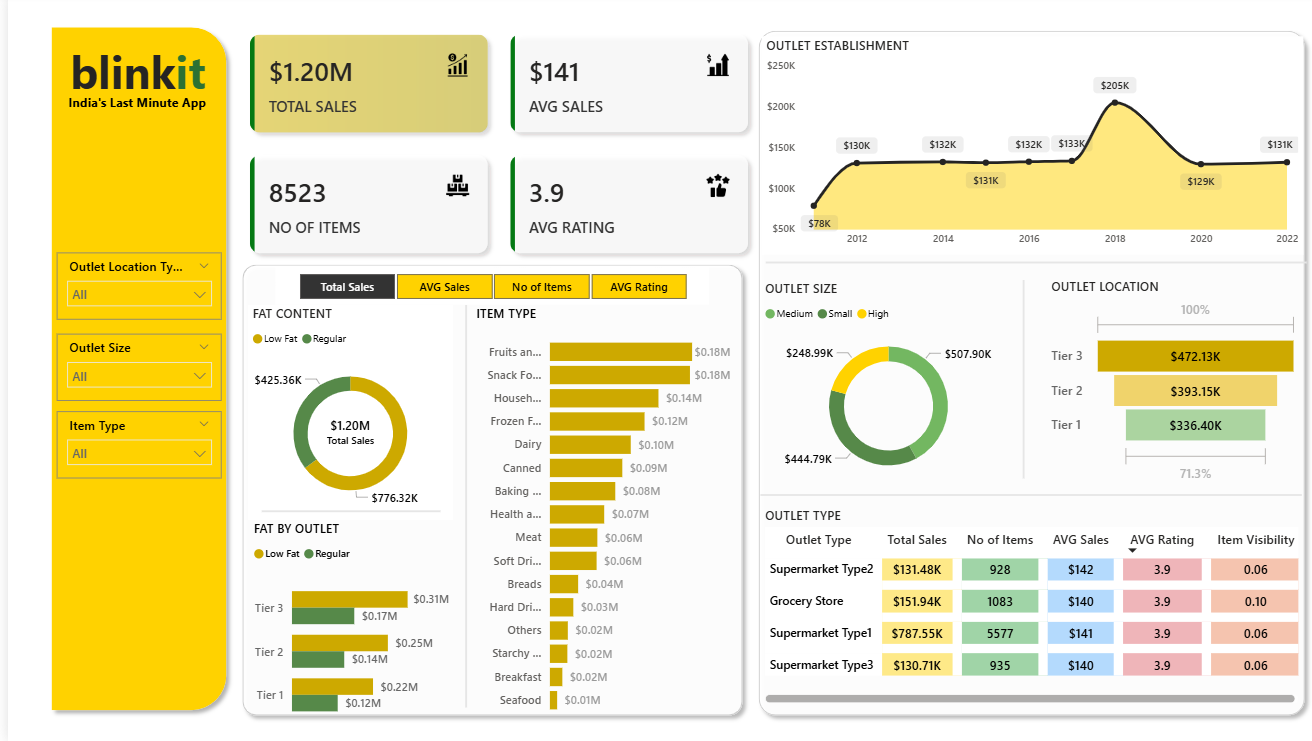

The page's visual inventory and layout, read from the dashboard file:
{"tool":"powerbi","page":{"name":"Page 1","canvas":[1400,800],"ordinal":0},"visuals":[{"type":"shape","box":[37.5,25.5,205.6,750.4],"z":0},{"type":"textbox","box":[290.9,689,206.4,87.1],"z":1000},{"type":"textbox","box":[52.3,100.5,172.9,34.9],"z":2000},{"type":"textbox","box":[52.3,44.2,174.3,73.7],"z":3000},{"type":"cardVisual","fields":{"Data":["BlinkIT Grocery Data.Total Sales","BlinkIT Grocery Data.AVG Sales","BlinkIT Grocery Data.No of Items","BlinkIT Grocery Data.AVG Rating"]},"box":[242.6,25.5,569.7,269.4],"z":4000},{"type":"shape","box":[242.6,280.2,554,501.3],"z":5000},{"type":"donutChart","title":"FAT CONTENT","fields":{"Y":["BlinkIT Grocery Data.Total Sales"],"Category":["BlinkIT Grocery Data.Item Fat Content"]},"box":[257.4,332.4,219.8,230.6],"z":6000},{"type":"slicer","fields":{"Values":["Matrix.Matrix"]},"box":[286.9,292.2,465.1,40.2],"z":7000},{"type":"cardVisual","fields":{"Data":["BlinkIT Grocery Data.Total Sales"]},"box":[313.7,435.7,107.2,56.3],"z":8000},{"type":"clusteredBarChart","title":"FAT BY OUTLET","fields":{"Y":["BlinkIT Grocery Data.Total Sales"],"Category":["BlinkIT Grocery Data.Outlet Location Type"],"Series":["BlinkIT Grocery Data.Item Fat Content"]},"box":[258.7,563,219.8,230.6],"z":9000},{"type":"shape","box":[272.1,544.2,191.7,18.8],"z":10000},{"type":"shape","box":[477.2,332.4,28.2,431.6],"z":11000},{"type":"barChart","title":"ITEM TYPE","fields":{"Y":["BlinkIT Grocery Data.Total Sales"],"Category":["BlinkIT Grocery Data.Item Type"]},"box":[497.3,332.4,282.8,449.1],"z":12000},{"type":"shape","box":[796.3,29.5,603.2,752],"z":13000},{"type":"lineChart","title":"OUTLET ESTABLISHMENT","fields":{"Y":["BlinkIT Grocery Data.Total Sales"],"Category":["BlinkIT Grocery Data.Outlet Establishment Year"]},"box":[808.3,44.2,580.4,234.6],"z":14000},{"type":"shape","box":[807,528.2,580.4,16.1],"z":15000},{"type":"donutChart","title":"OUTLET SIZE","fields":{"Y":["BlinkIT Grocery Data.Total Sales"],"Category":["BlinkIT Grocery Data.Outlet Size"]},"box":[807,305.6,275,225.2],"z":16000},{"type":"shape","box":[1075.1,305.6,28.2,213.1],"z":17000},{"type":"funnel","title":"OUTLET LOCATION","fields":{"Y":["BlinkIT Grocery Data.Total Sales"],"Category":["BlinkIT Grocery Data.Outlet Location Type"]},"box":[1113.9,303,274.8,225.2],"z":18000},{"type":"shape","box":[812.3,278.8,580.4,16.1],"z":19000},{"type":"pivotTable","title":"OUTLET TYPE","fields":{"Rows":["BlinkIT Grocery Data.Outlet Type"],"Values":["BlinkIT Grocery Data.Total Sales","BlinkIT Grocery Data.No of Items","BlinkIT Grocery Data.AVG Sales","BlinkIT Grocery Data.AVG Rating","Avg(BlinkIT Grocery Data.Item Visibility)"]},"box":[807,548.3,581.8,215.8],"z":20000},{"type":"slicer","fields":{"Values":["BlinkIT Grocery Data.Outlet Location Type"]},"box":[52.3,276.1,176.9,72.4],"z":21000},{"type":"slicer","fields":{"Values":["BlinkIT Grocery Data.Outlet Size"]},"box":[52.3,363.3,176.9,72.4],"z":22000},{"type":"slicer","fields":{"Values":["BlinkIT Grocery Data.Item Type"]},"box":[52.3,446.4,176.9,72.4],"z":23000}]}

Visuals, with their boxes in screenshot pixels (x1, y1, x2, y2), scaled from the page's 1400x800 canvas onto the 1312x741 screenshot:
shape: BBox(35, 24, 228, 719)
textbox: BBox(273, 638, 466, 719)
textbox: BBox(49, 93, 211, 125)
textbox: BBox(49, 41, 212, 109)
cardVisual - BlinkIT Grocery Data.Total Sales x BlinkIT Grocery Data.AVG Sales: BBox(227, 24, 761, 273)
shape: BBox(227, 260, 747, 724)
"FAT CONTENT" donutChart: BBox(241, 308, 447, 521)
slicer - Matrix.Matrix: BBox(269, 271, 705, 308)
cardVisual - BlinkIT Grocery Data.Total Sales: BBox(294, 404, 394, 456)
"FAT BY OUTLET" clusteredBarChart: BBox(242, 521, 448, 735)
shape: BBox(255, 504, 435, 521)
shape: BBox(447, 308, 474, 708)
"ITEM TYPE" barChart: BBox(466, 308, 731, 724)
shape: BBox(746, 27, 1311, 724)
"OUTLET ESTABLISHMENT" lineChart: BBox(757, 41, 1301, 258)
shape: BBox(756, 489, 1300, 504)
"OUTLET SIZE" donutChart: BBox(756, 283, 1014, 492)
shape: BBox(1008, 283, 1034, 480)
"OUTLET LOCATION" funnel: BBox(1044, 281, 1301, 489)
shape: BBox(761, 258, 1305, 273)
"OUTLET TYPE" pivotTable: BBox(756, 508, 1302, 708)
slicer - BlinkIT Grocery Data.Outlet Location Type: BBox(49, 256, 215, 323)
slicer - BlinkIT Grocery Data.Outlet Size: BBox(49, 337, 215, 404)
slicer - BlinkIT Grocery Data.Item Type: BBox(49, 413, 215, 481)
